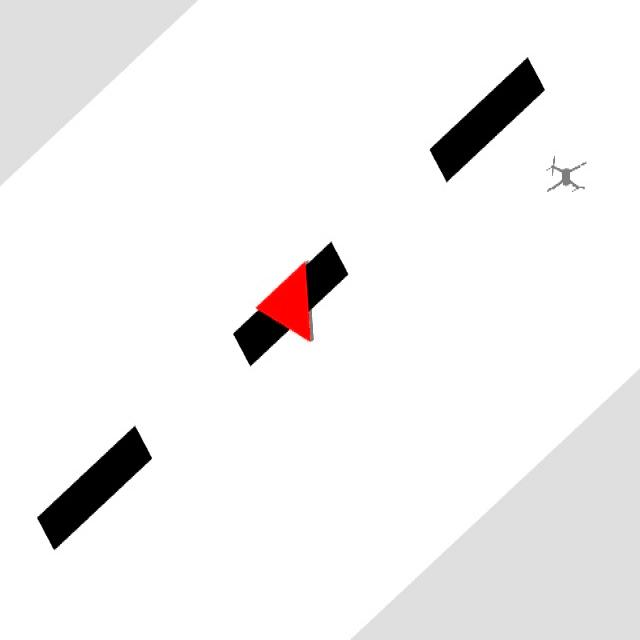red_triangle: (253, 260, 312, 344)
